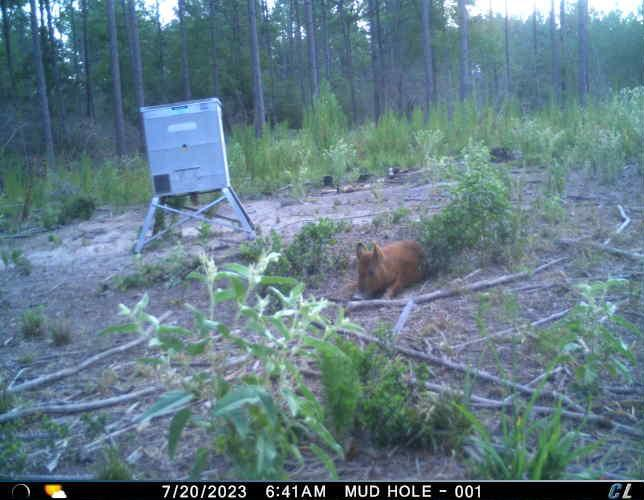Hog: (352, 236, 434, 305)
